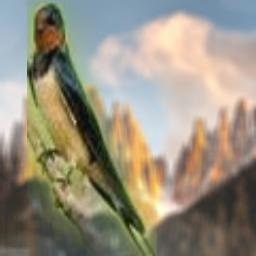Swallow: (27, 1, 157, 256)
